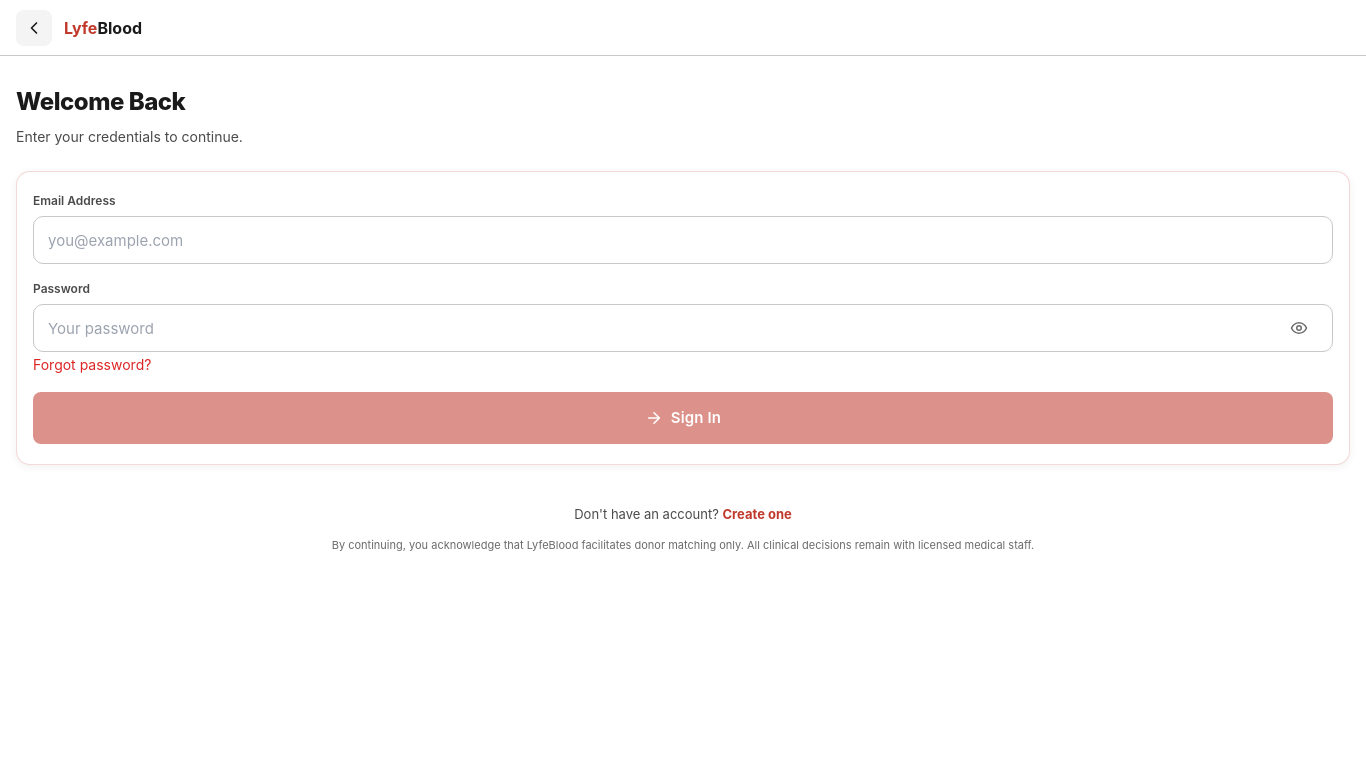
Test: LoginPage interactions › shows an authentication error and permits retry
Step 1. Type "person@example.com" into the field with placeholder "you@example.com" → point(683, 240), box [33,216,1333,264]
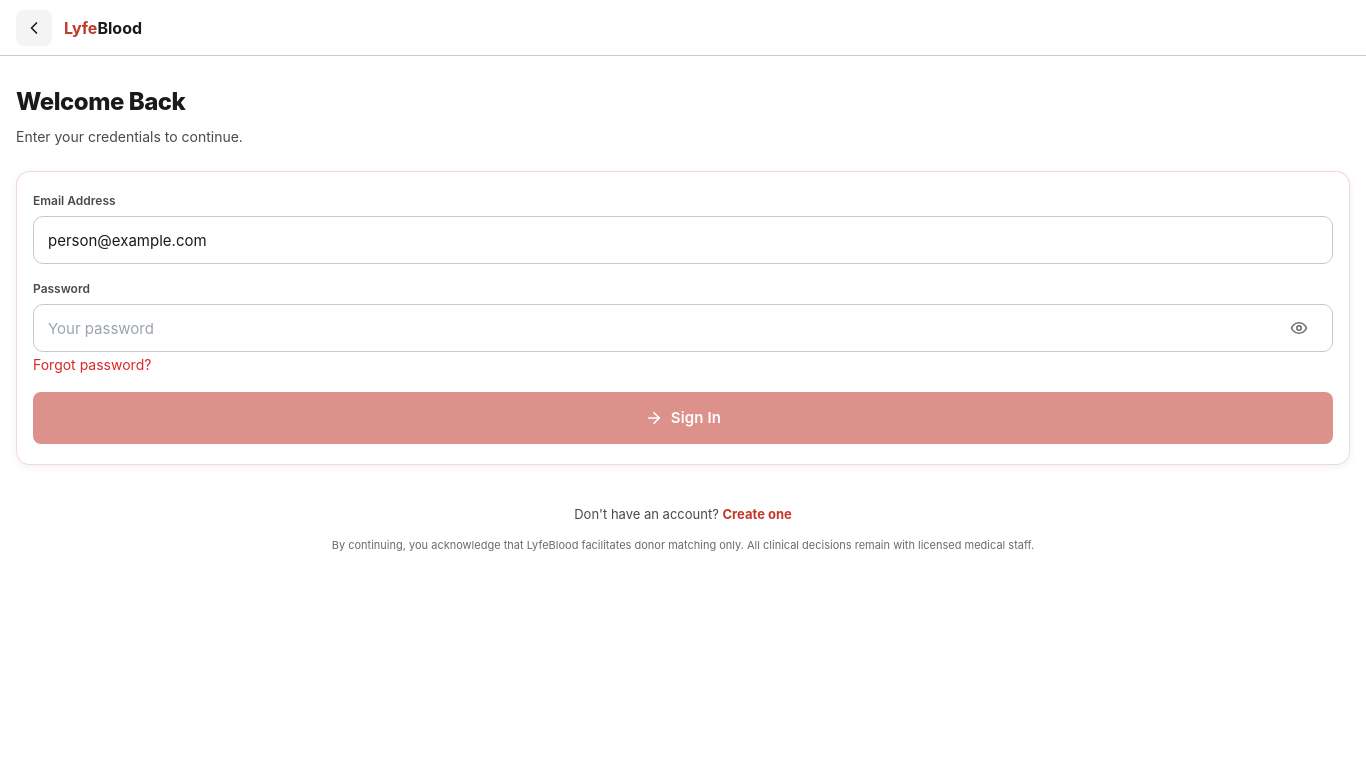
Step 2. Type "wrong" into the password field with placeholder "Your password" → point(683, 328), box [33,304,1333,352]
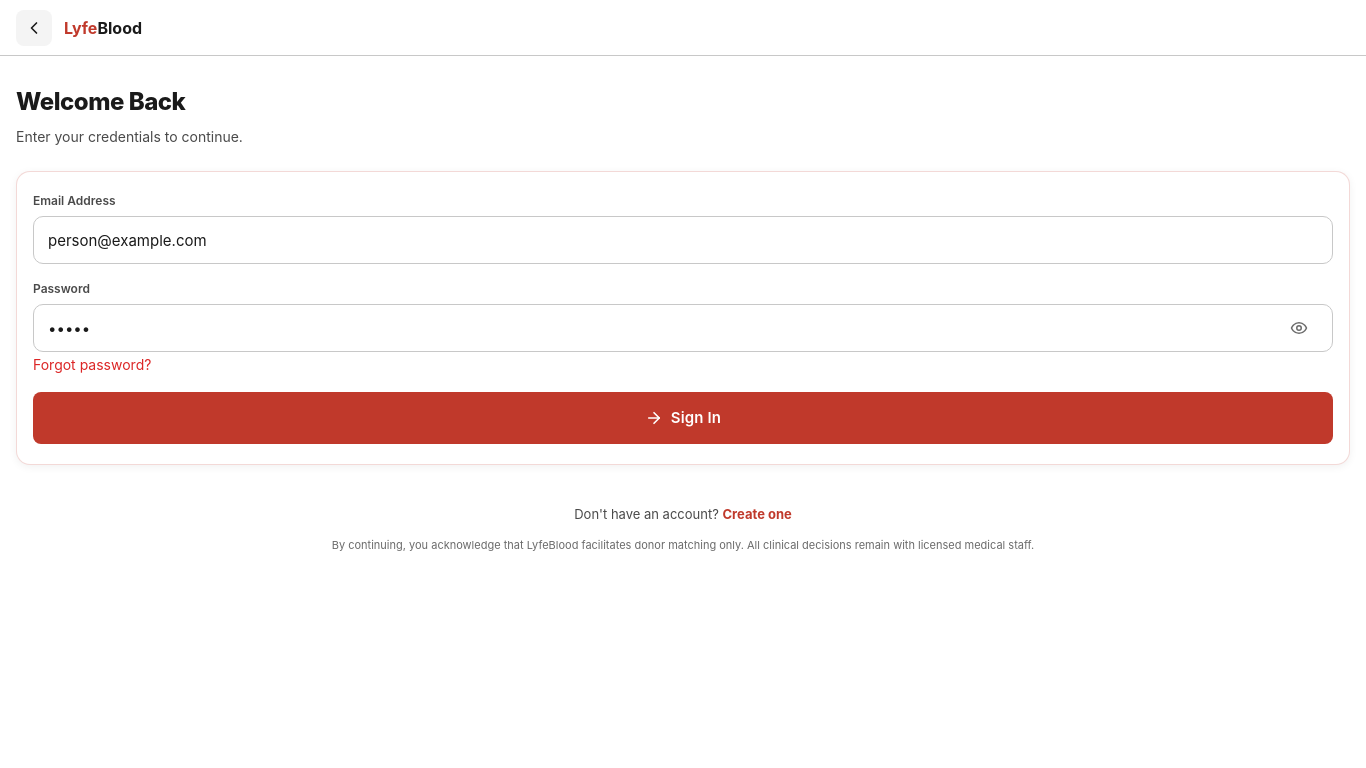
Step 3. Click the button "Sign In" → point(683, 418), box [33,392,1333,444]
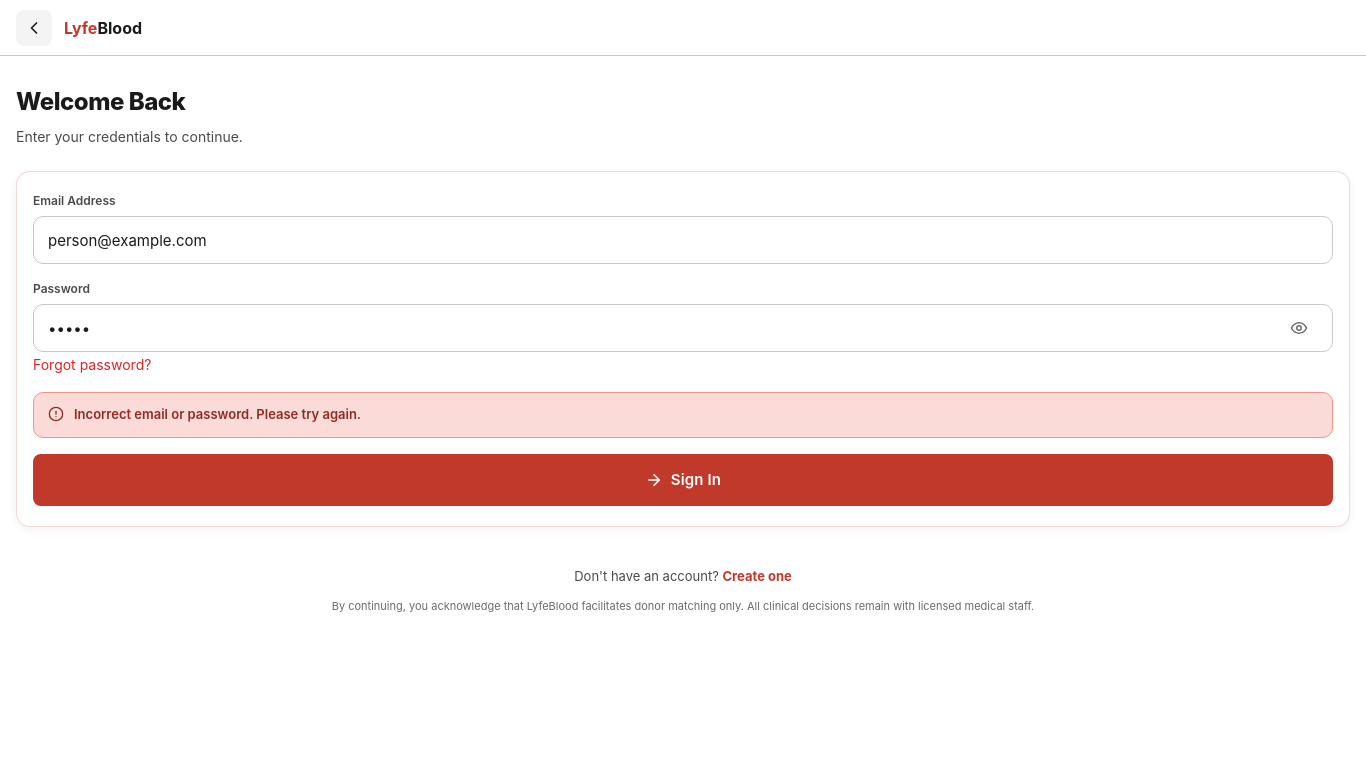
Check: the button "Sign In" is enabled, box [33,454,1333,506]
Check: the text "Incorrect email or password. Please try again." is shown, box [74,405,361,424]
